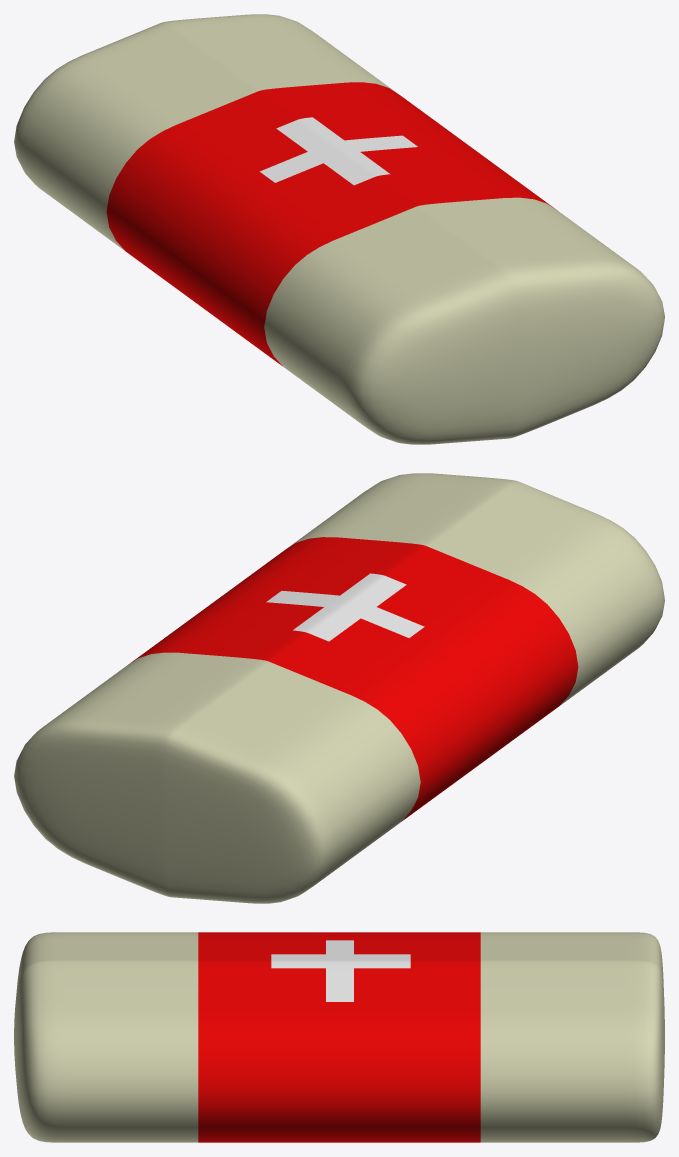
File: Vendaje.fbx
3 renders of one model, top to bottom at view 1: azimuth 30°, elevation 25°; view 2: azimuth 150°, elevation 25°; view 3: azimuth 270°, elevation 25°, orthographic. The views are drawn at different scales.
Visible parts, largest first — view 1: pCube71; view 2: pCube71; view 3: pCube71.
Part boxes in pixels (bbox=[...]): pCube71: bbox=[14, 14, 664, 444]; pCube71: bbox=[14, 473, 664, 903]; pCube71: bbox=[14, 932, 664, 1142].
Bounding box in the file's own units: 0.4969 × 0.2537 × 0.9968.
